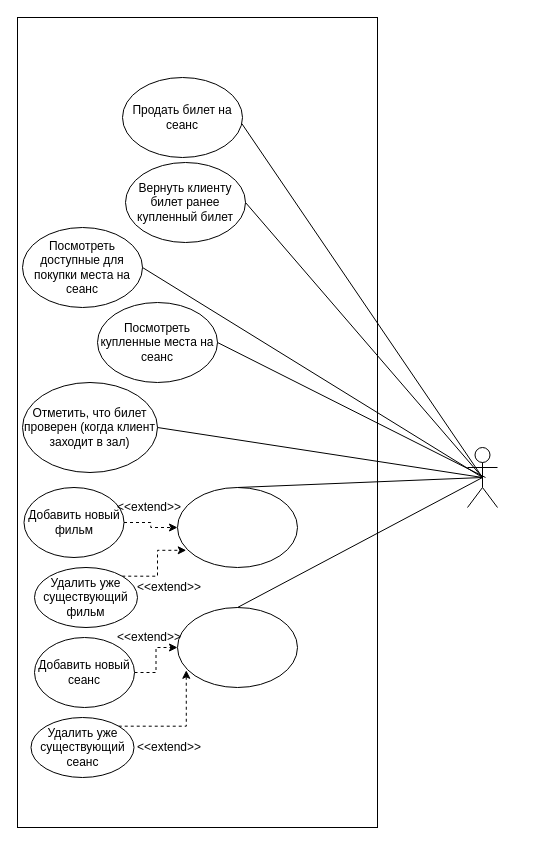
Image size: 558x845. Some labels were removed from this diagram. Each missing label, with the centre of its shape:
Обновить информацию о сеансе: the point at 237,647
Обновить информацию о фильме: the point at 237,527
Работник кинотеатра: the point at 482,477
